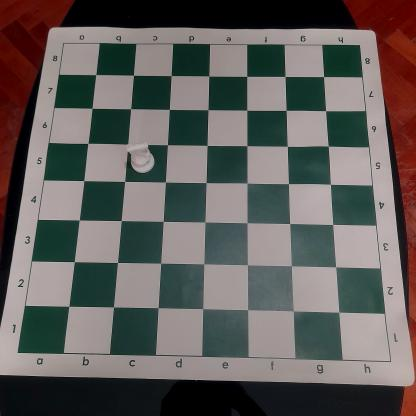white-knight: (125, 141, 156, 175)
